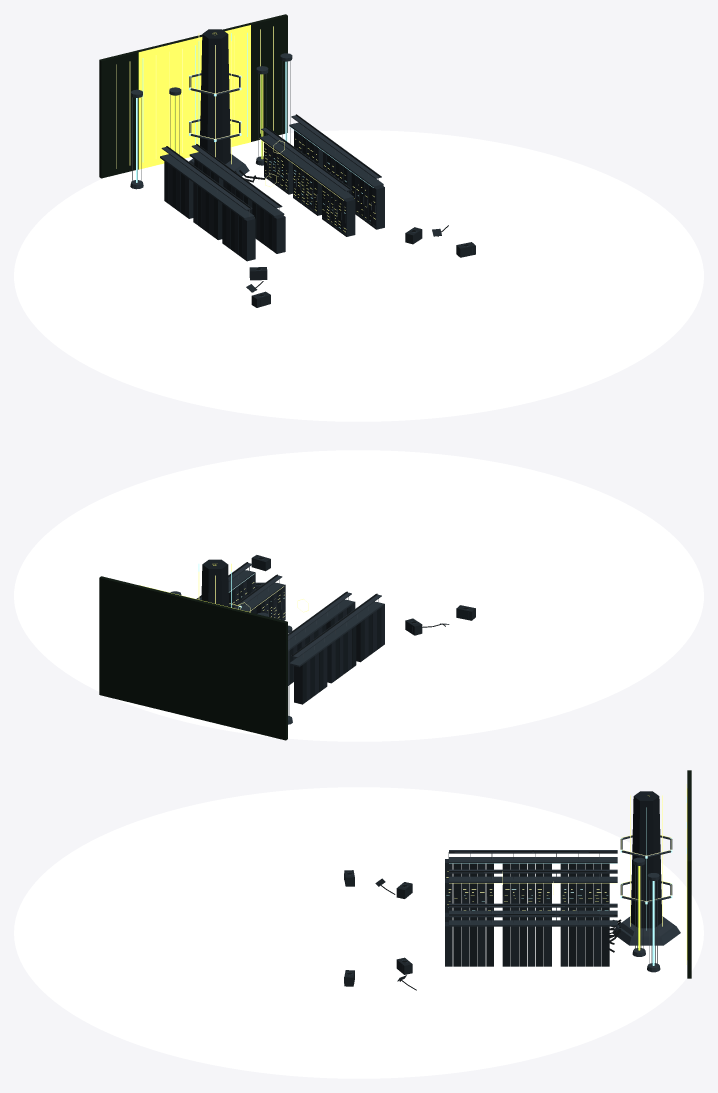
The picture shows the model from 3 angles, top to bottom: view 1: azimuth 30°, elevation 25°; view 2: azimuth 150°, elevation 25°; view 3: azimuth 270°, elevation 25°; orthographic projection.
Parts seen in each view (by area): view 1: sol, decor; view 2: sol, decor; view 3: sol, decor.
Part boxes in pixels (x1,y1,x2,y2): sol: (14, 130, 703, 421); decor: (99, 14, 475, 307); sol: (14, 450, 703, 741); decor: (99, 555, 475, 740); sol: (14, 787, 703, 1078); decor: (344, 770, 691, 990).
Size of the model in its own units: 96 by 21.05 by 96.
